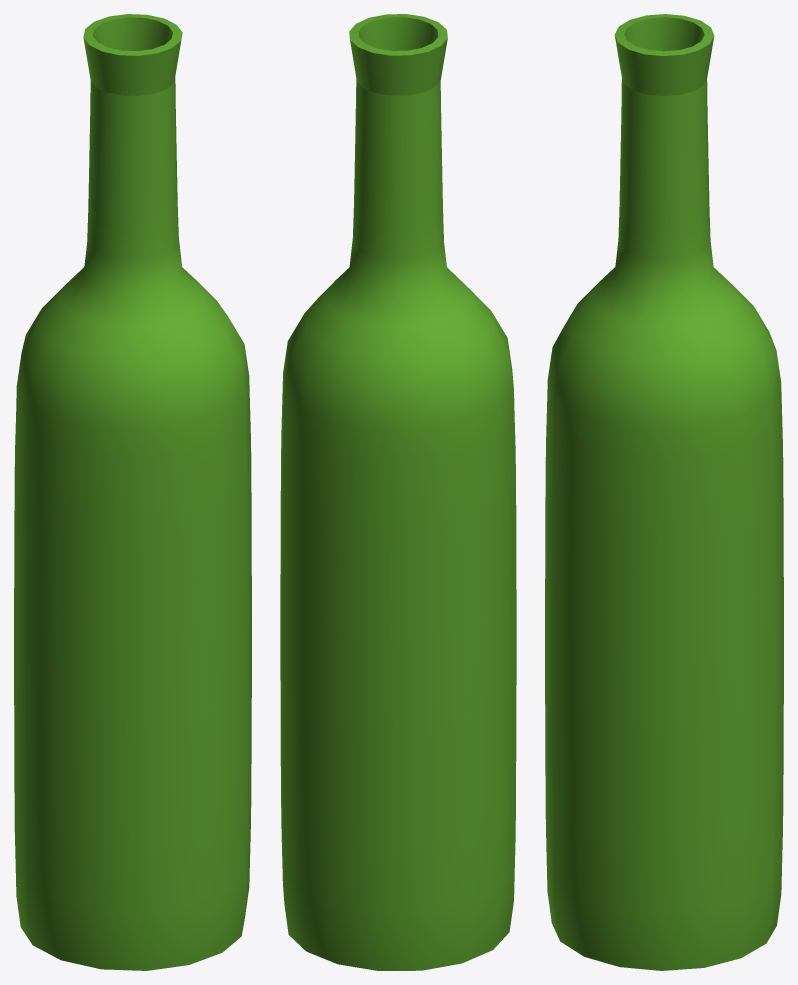
Rendered from bottle.fbx.
The picture shows the model from 3 angles, left to right: view 1: azimuth 30°, elevation 25°; view 2: azimuth 150°, elevation 25°; view 3: azimuth 270°, elevation 25°; orthographic projection.
Parts seen in each view (by area): view 1: butilka; view 2: butilka; view 3: butilka.
Part boxes in pixels (<box>): butilka: <box>14,14,251,970</box>; butilka: <box>280,14,516,970</box>; butilka: <box>545,14,783,970</box>.
Bounding box in the file's own units: 7.3 × 29.99 × 7.3.
